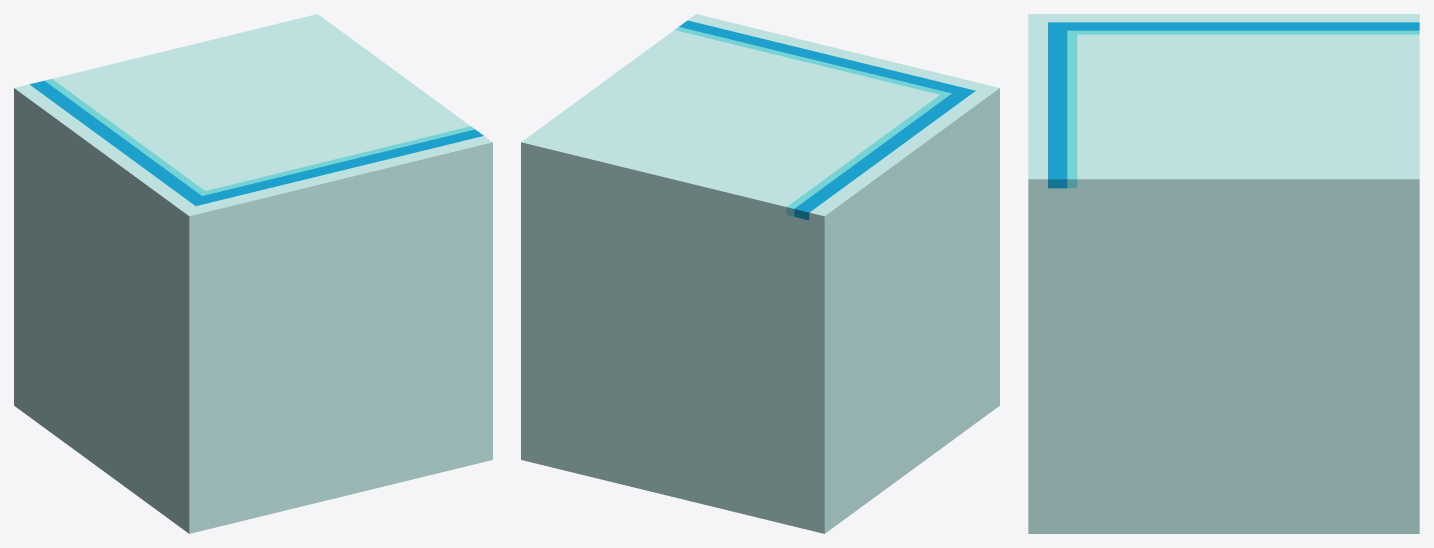
File: BottomLeftFloor.obj
The picture shows the model from 3 angles, left to right: view 1: azimuth 30°, elevation 25°; view 2: azimuth 150°, elevation 25°; view 3: azimuth 270°, elevation 25°; orthographic projection. The views are drawn at different scales.
Bounding box in the file's own units: 4 × 4 × 4.
Materials: 1 (1 with a texture image).
